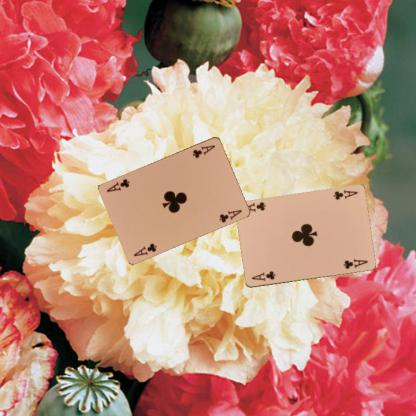Ac: (190, 142, 217, 159), (131, 240, 158, 257), (249, 268, 277, 283), (330, 187, 359, 201)
